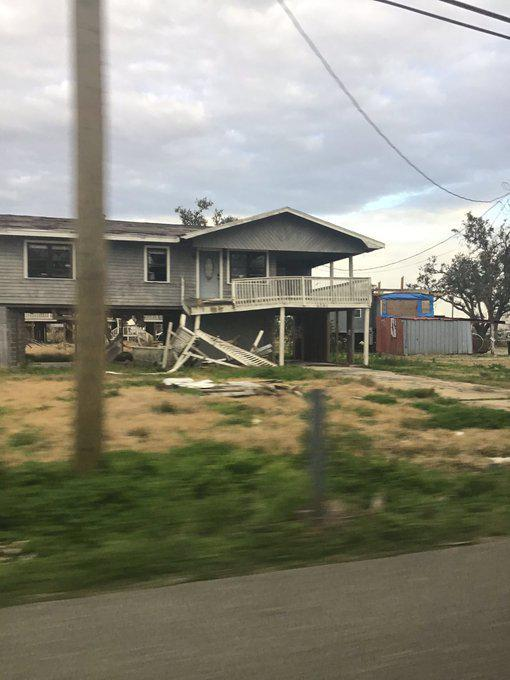minor: (0, 190, 384, 369)
